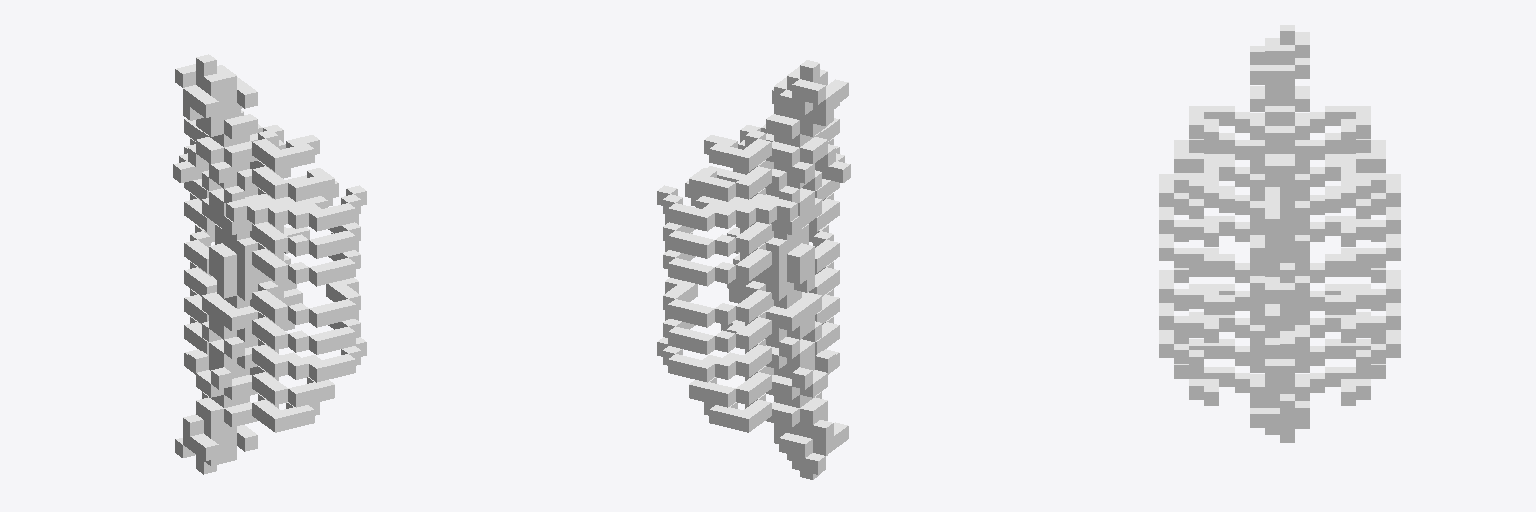
The model's file is mon-6-Skels.obj.
3 renders of one model, left to right at view 1: azimuth 30°, elevation 25°; view 2: azimuth 150°, elevation 25°; view 3: azimuth 270°, elevation 25°, orthographic.
Parts seen in each view (by area): view 1: Skels; view 2: Skels; view 3: Skels.
Part boxes in pixels (x1,y1,x2,y2): Skels: (173, 54, 366, 474); Skels: (657, 60, 850, 479); Skels: (1159, 25, 1400, 442).
Size of the model in its own units: 1 by 3 by 1.6.